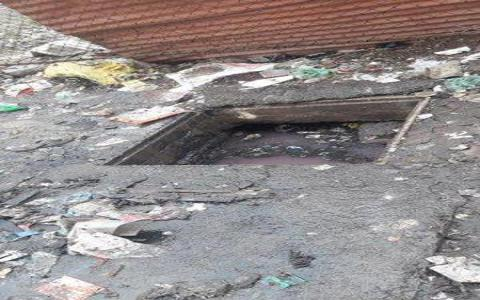open manhole: (96, 95, 452, 183)
